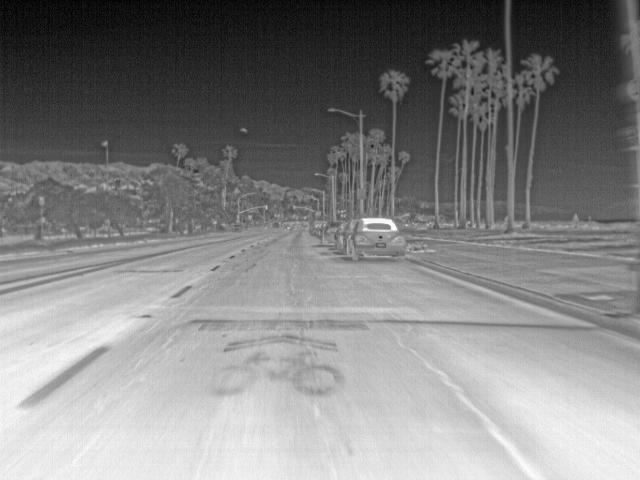car: (346, 216, 407, 260), (332, 220, 348, 252), (323, 219, 343, 244), (308, 220, 328, 237)
dog: (405, 242, 434, 253)
